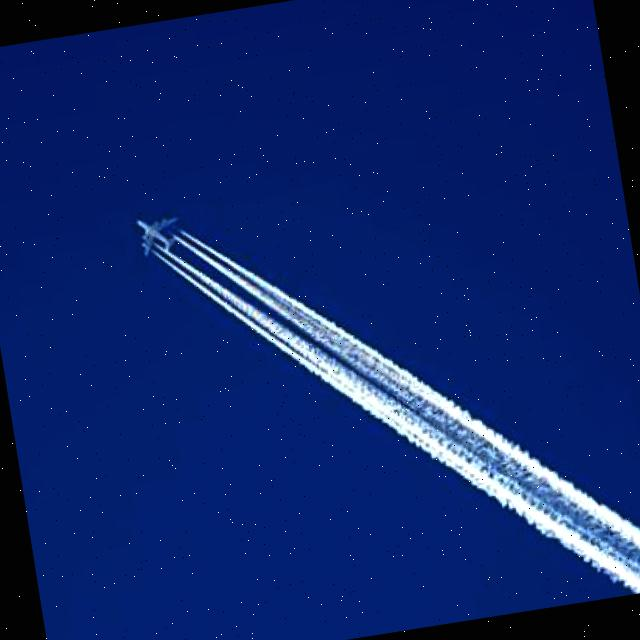Ct: (104, 76, 640, 640)
